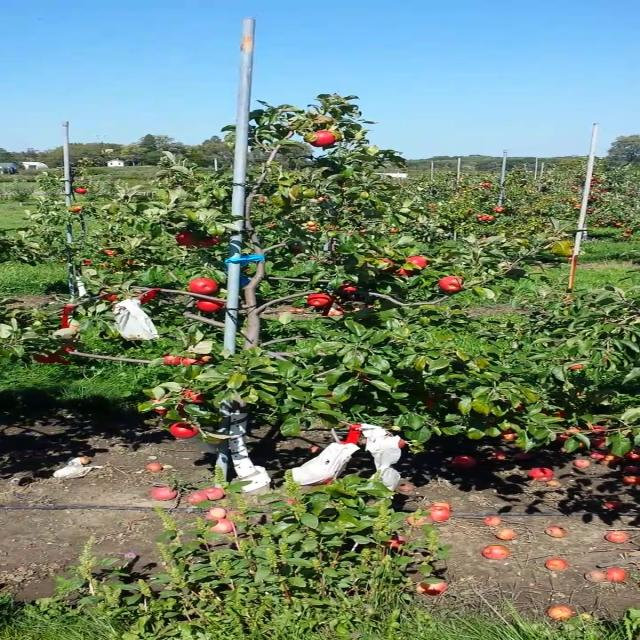apple: (149, 398, 187, 416), (188, 277, 220, 297), (436, 275, 469, 291), (307, 128, 333, 148), (180, 354, 216, 368), (169, 422, 198, 438), (403, 254, 431, 270), (95, 285, 123, 301), (182, 388, 208, 404), (556, 426, 582, 442), (194, 297, 221, 312), (54, 346, 76, 364), (306, 293, 334, 307), (372, 257, 396, 273), (336, 278, 360, 294), (174, 230, 197, 246), (192, 234, 220, 246), (396, 262, 420, 276), (159, 353, 181, 367), (303, 476, 333, 486), (538, 407, 567, 417), (138, 290, 158, 304), (423, 394, 440, 410), (591, 436, 611, 449), (31, 353, 56, 363), (586, 424, 606, 434), (499, 429, 514, 442), (397, 437, 407, 449), (568, 364, 582, 370), (291, 246, 302, 253)
